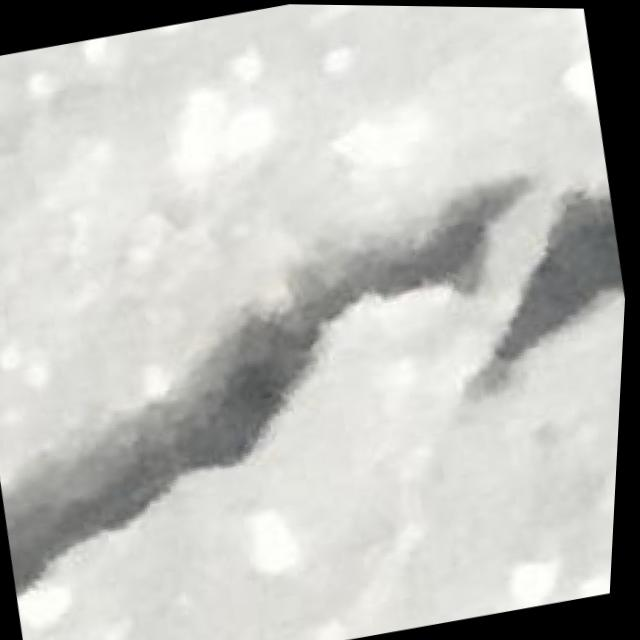Crack: (0, 148, 594, 613), (444, 172, 633, 422)
